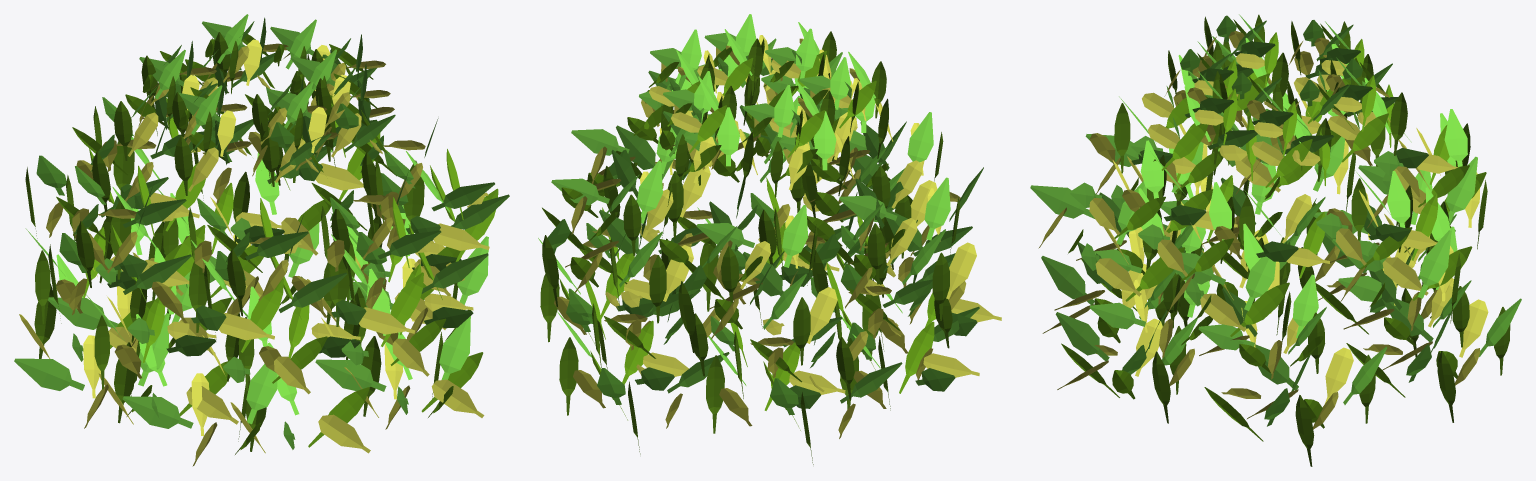
File: animation feuilles bouclier (2).fbx
3 views of the same model, side by side, from view 1: azimuth 30°, elevation 25°; view 2: azimuth 150°, elevation 25°; view 3: azimuth 270°, elevation 25° (orthographic). The views are drawn at different scales.
Visible parts, largest first — view 1: bpuclier de feuilles; view 2: bpuclier de feuilles; view 3: bpuclier de feuilles.
Part boxes in pixels (left/top/right/bottom): bpuclier de feuilles: left=14, top=14, right=509, bottom=466; bpuclier de feuilles: left=538, top=14, right=1001, bottom=464; bpuclier de feuilles: left=1030, top=14, right=1521, bottom=466.
Bounding box in the file's own units: 612 × 435 × 597.
